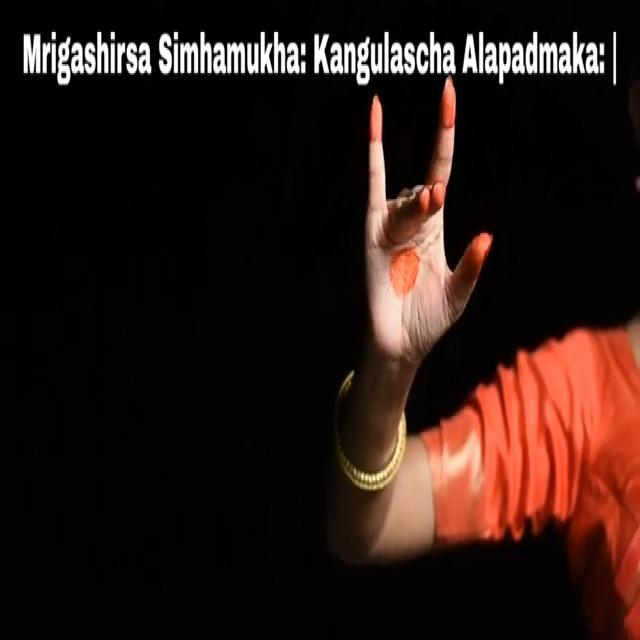Simhamukha: (350, 74, 498, 364)
bangle: (328, 363, 416, 512)
text: (18, 18, 624, 95)
